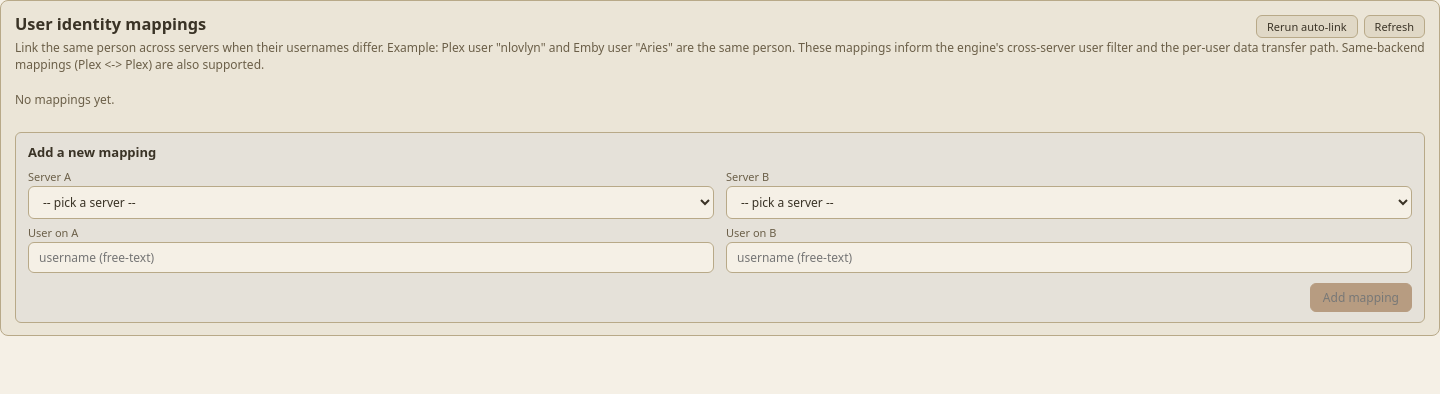
Test case: UserMappingPanel - Rerun Auto-Link button › surfaces the pairs_written count inline on success
Click the button "Rerun auto-link": (1307, 26) [1256,14,1358,38]
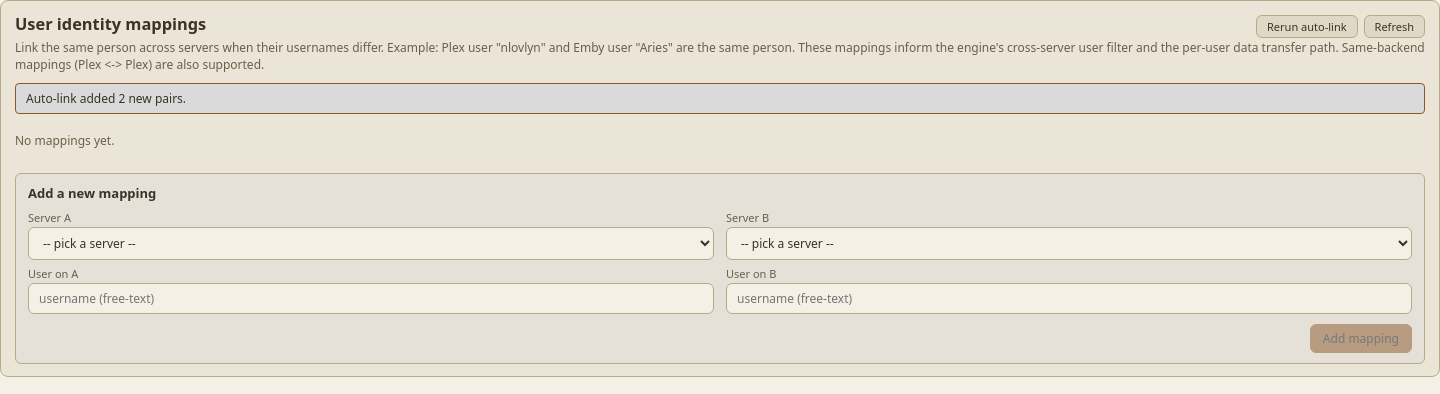
Result: the text "added 2 new pairs?" is shown at [26,90,186,107]
